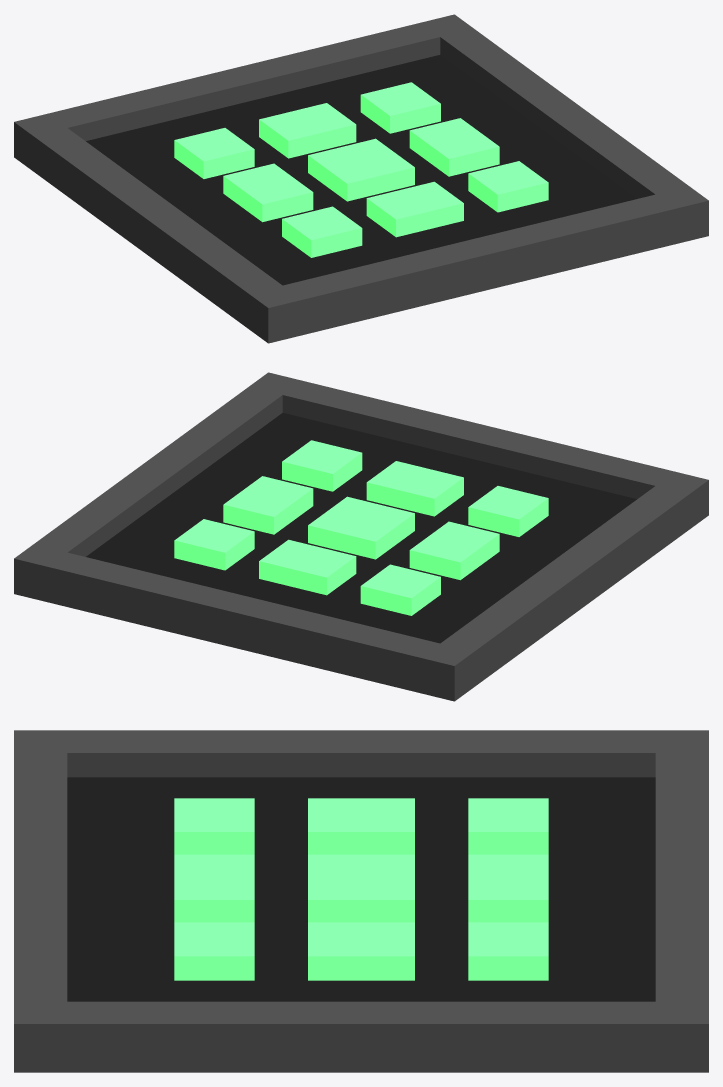
The model's file is trap_DOTS_GREEN.glb.
3 renders of one model, top to bottom at view 1: azimuth 30°, elevation 25°; view 2: azimuth 150°, elevation 25°; view 3: azimuth 270°, elevation 25°, orthographic. The views are drawn at different scales.
Parts seen in each view (by area): view 1: item_TRAP_DOTS_GREEN; view 2: item_TRAP_DOTS_GREEN; view 3: item_TRAP_DOTS_GREEN.
Part boxes in pixels (x1,y1,x2,y2): item_TRAP_DOTS_GREEN: (14, 14, 708, 343); item_TRAP_DOTS_GREEN: (14, 372, 708, 701); item_TRAP_DOTS_GREEN: (14, 730, 708, 1072).
Size of the model in its own units: 0.5909 by 0.0455 by 0.5909.
1 material, 1 textured.
